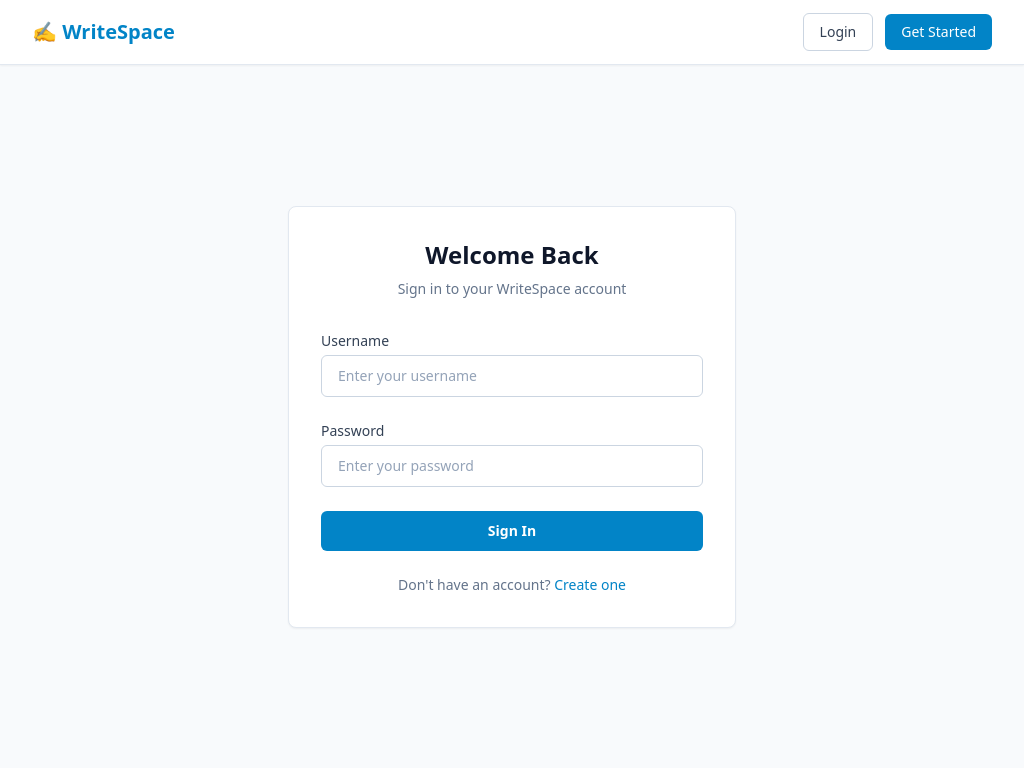
Scenario: LoginPage › form validation › shows error when username is empty
This screenshot has width=1024, height=768.
Type "somepassword" into the password field labelled "Password" at (512, 466), box [321,444,703,486]
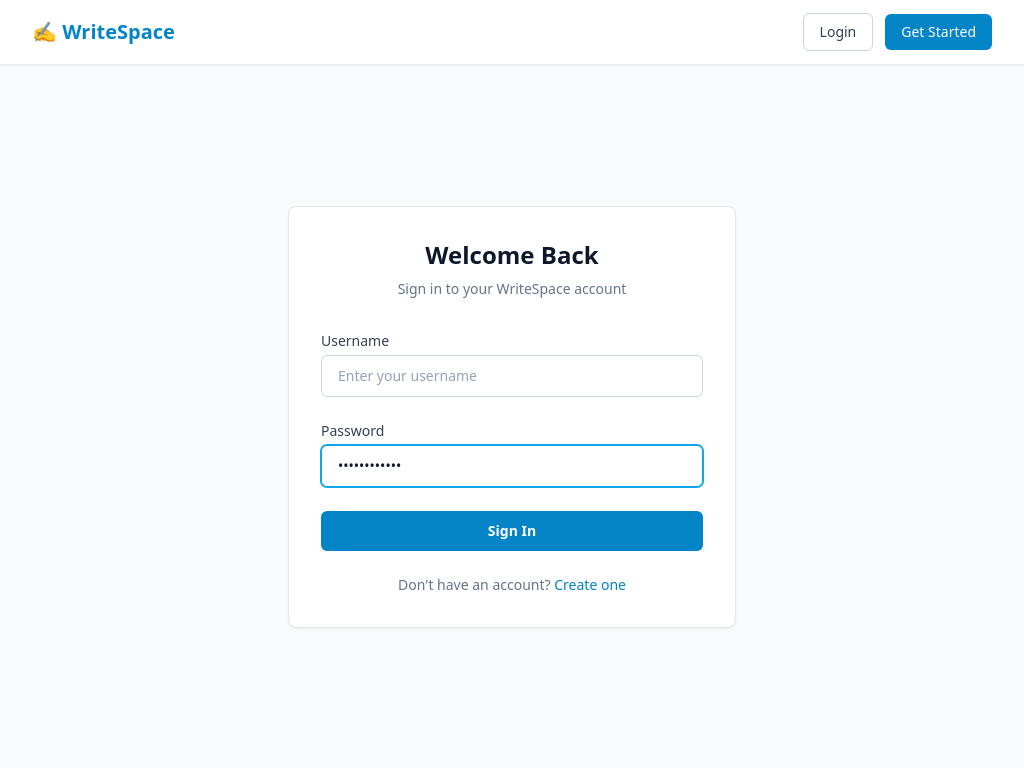
Click the button "Sign In" at (512, 530), box [321,510,703,550]
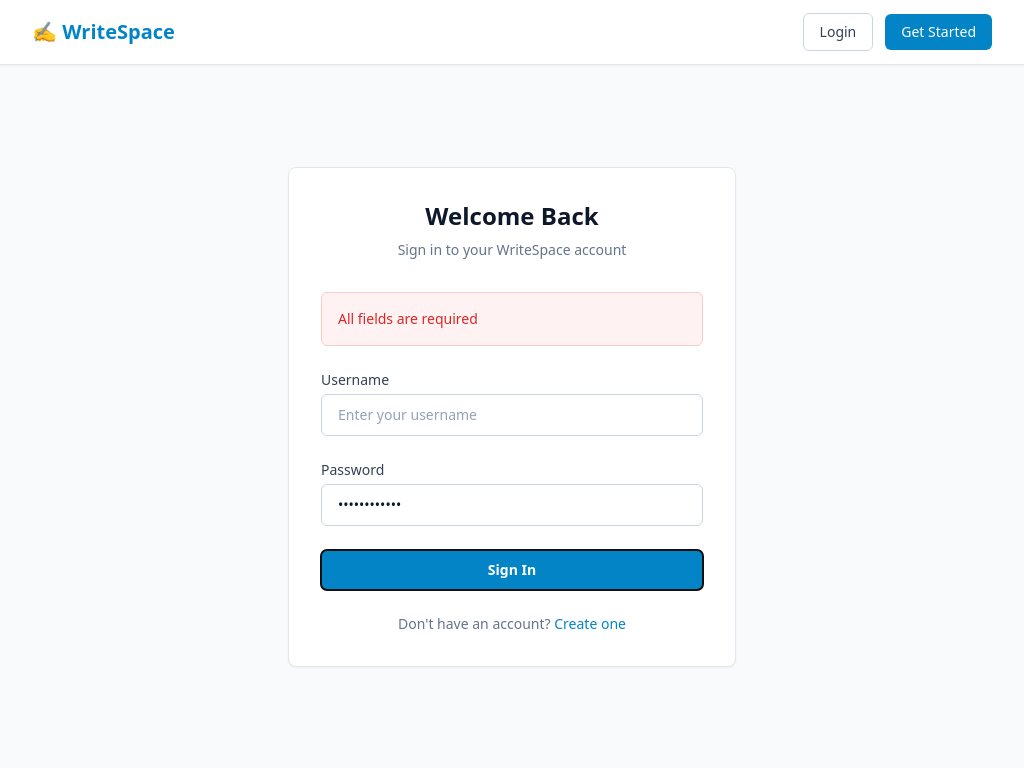
Result: the text "All fields are required" is shown at [338,308,478,328]
